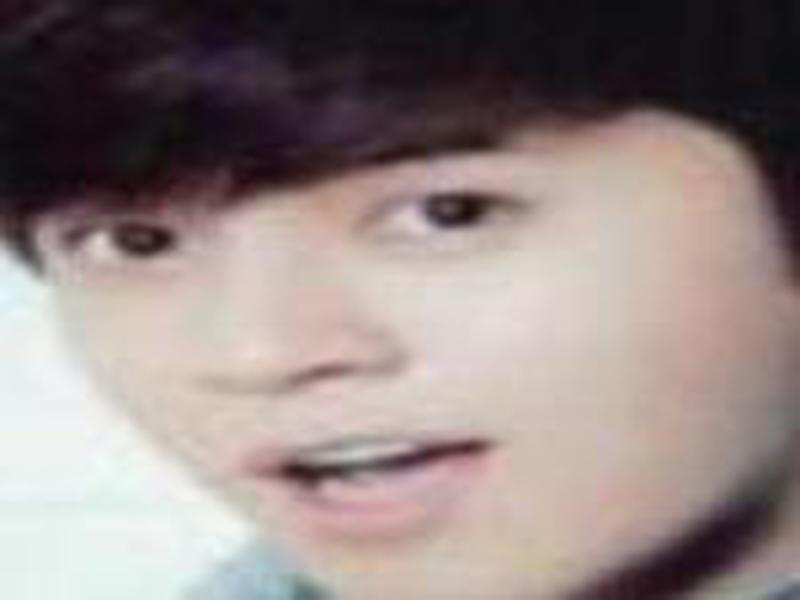without_mask: (14, 106, 765, 591)
